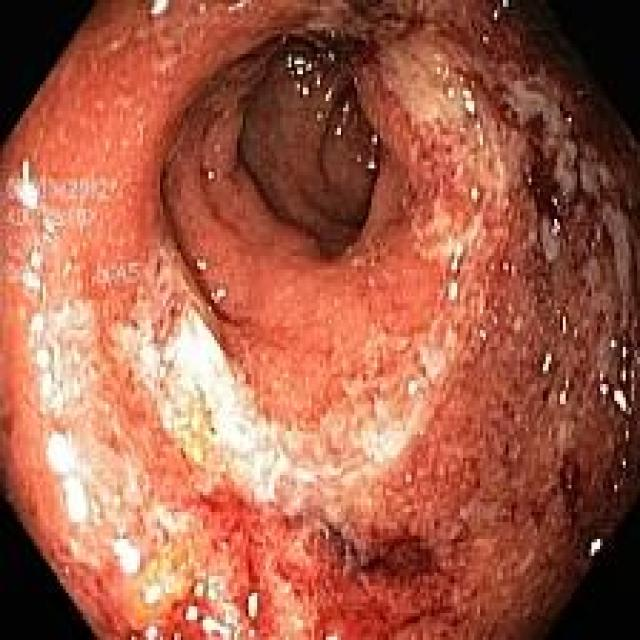ulcerative-colitis-grade-3: (1, 0, 640, 640)
